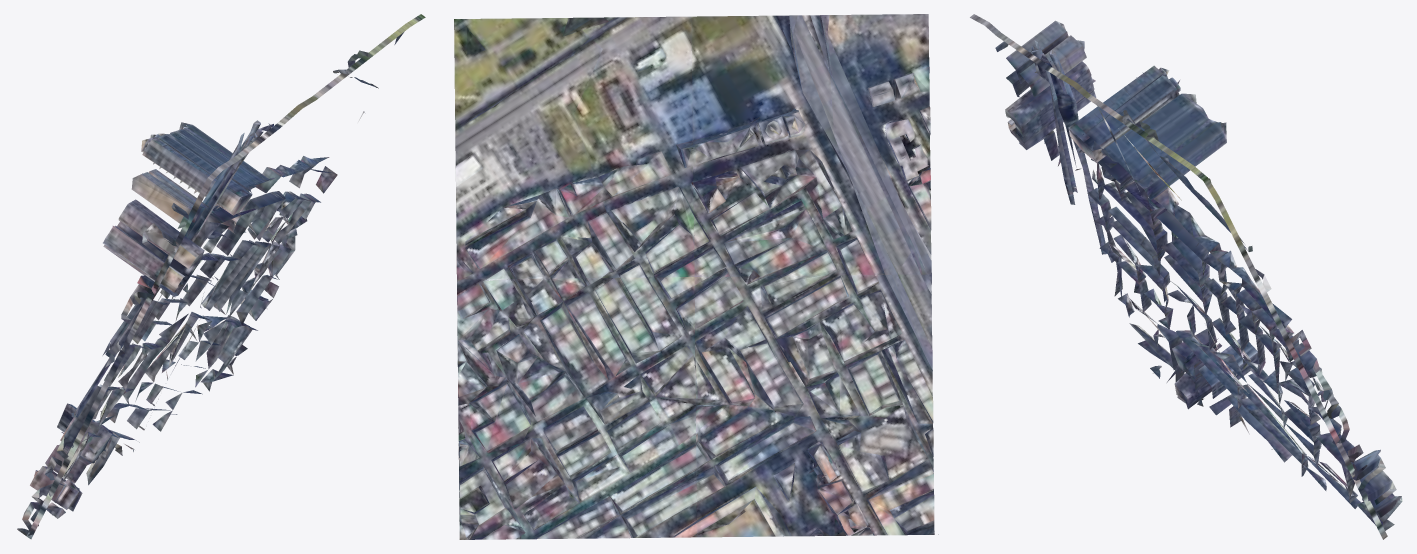
The picture shows the model from 3 angles, left to right: view 1: azimuth 30°, elevation 25°; view 2: azimuth 150°, elevation 25°; view 3: azimuth 270°, elevation 25°; orthographic projection. The views are drawn at different scales.
Bounding box in the file's own units: 626 × 565 × 533.
Materials: 1 (1 with a texture image).
